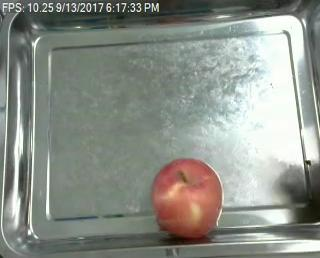apple: (151, 158, 224, 240)
